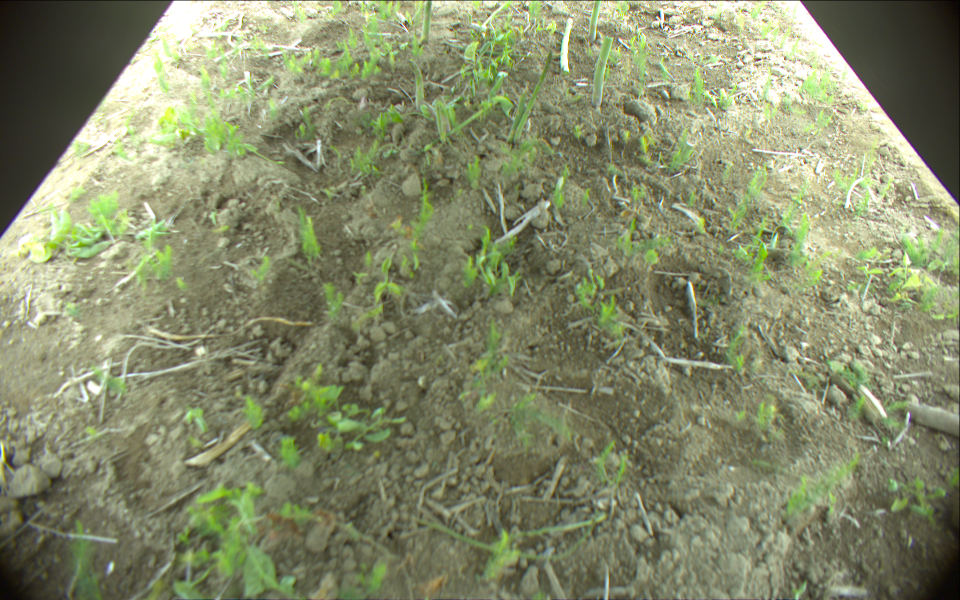aspa: (516, 49, 552, 142), (591, 33, 615, 107), (510, 86, 529, 145), (558, 18, 573, 72), (413, 60, 425, 112), (420, 1, 433, 45), (589, 1, 600, 39)
